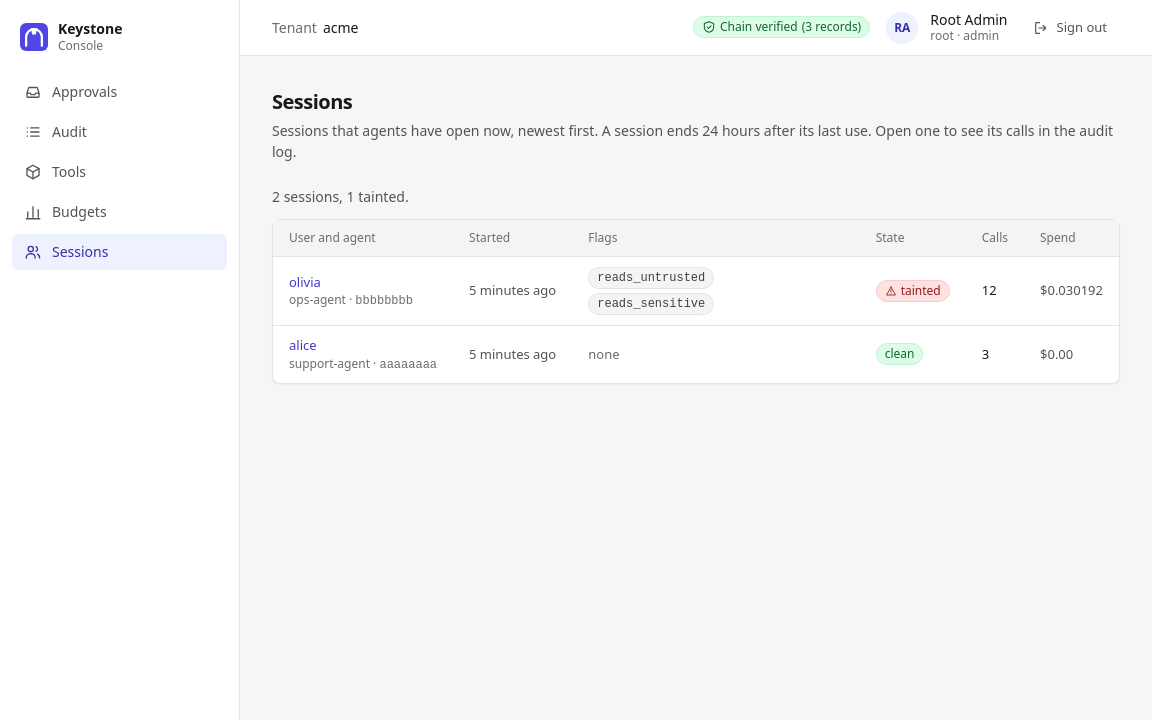
opens the audit log for the session that was chosen
The image size is (1152, 720).
Click the link with aria-label "audit log for olivia": {"x": 305, "y": 282} [289,273,321,291]
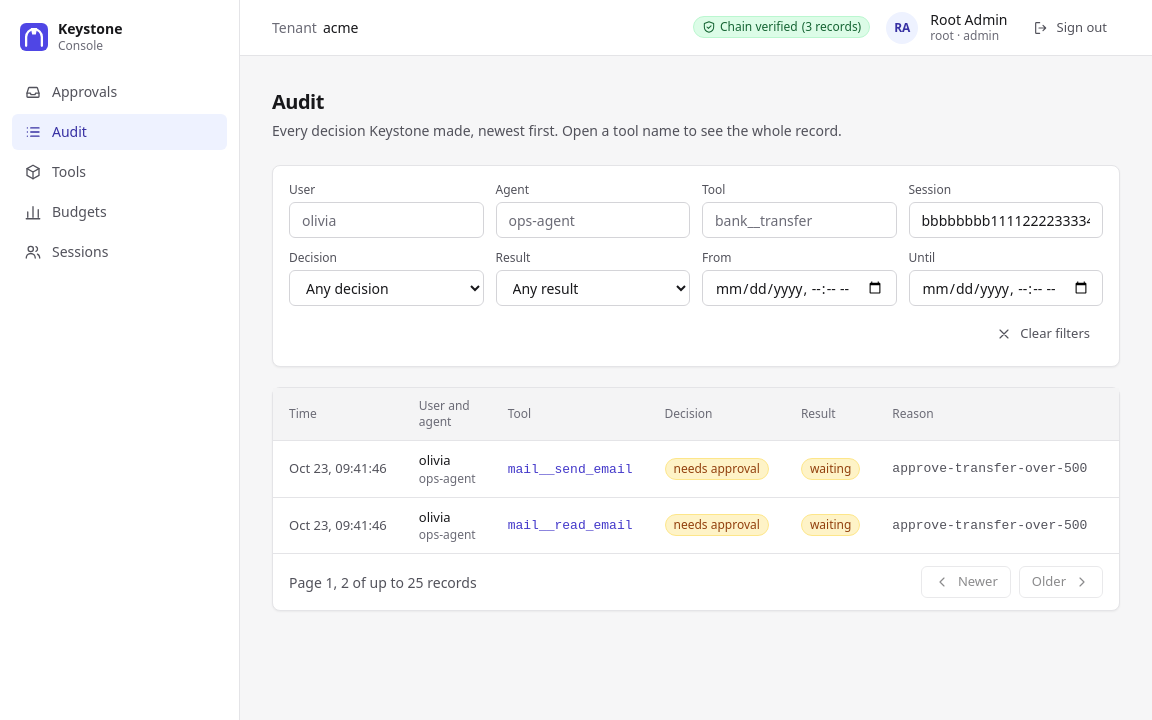
Expected: the heading "Audit" is shown, [272,88,324,115]
Expected: the field labelled "Session" holds "bbbbbbbb11112222333344445555", [908,202,1103,238]
Expected: the button "mail__send_email" is shown, [508,460,632,479]
